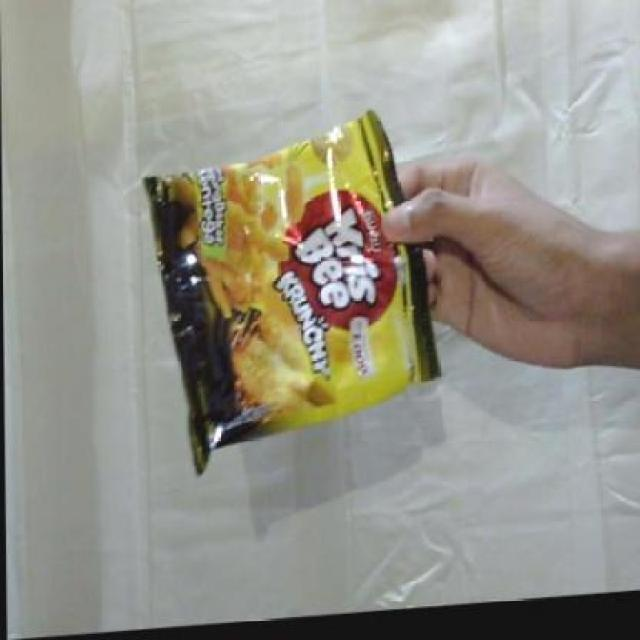Plastic: (133, 100, 447, 487)
